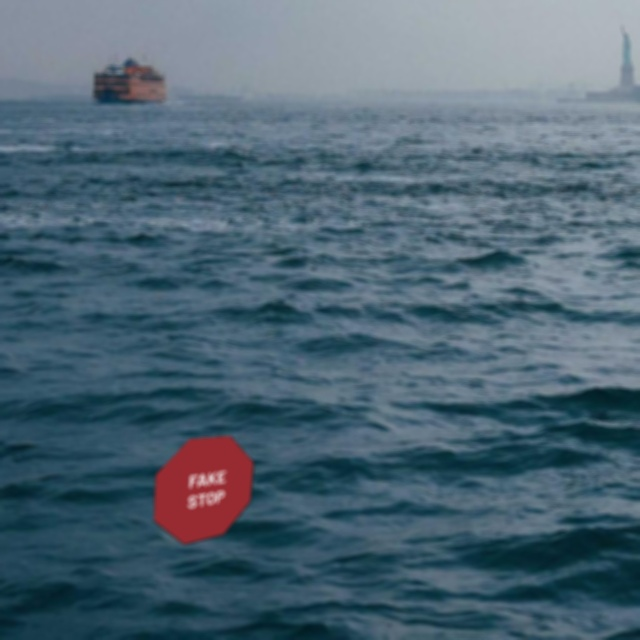FAKE_STOP: (153, 435, 254, 545)
